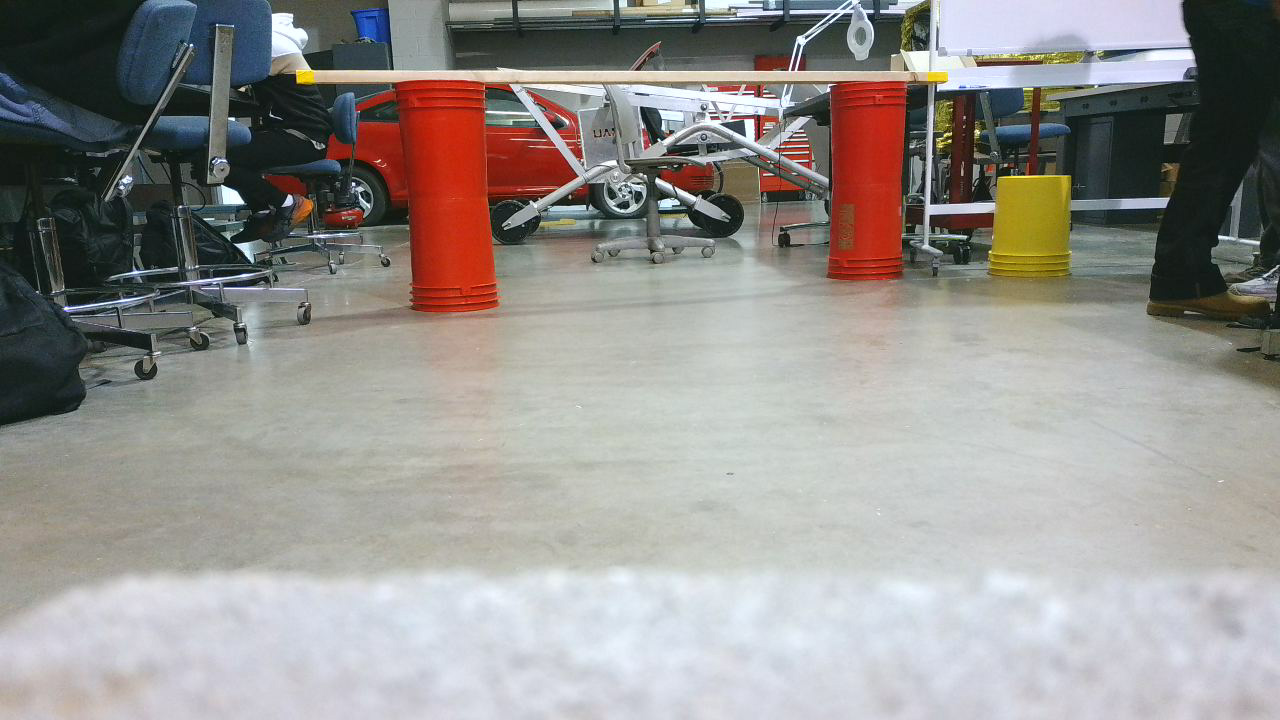red_bucket_arch: (299, 72, 923, 315)
yellow_bucket: (998, 173, 1083, 287)
